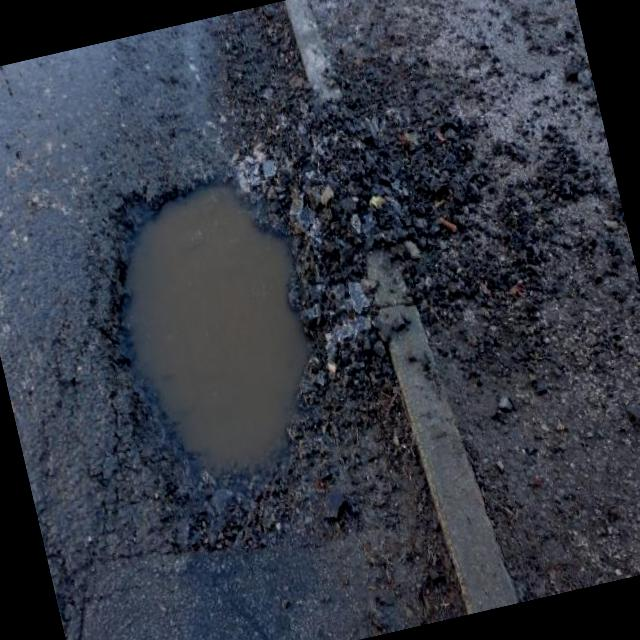pothole: (75, 140, 363, 538)
